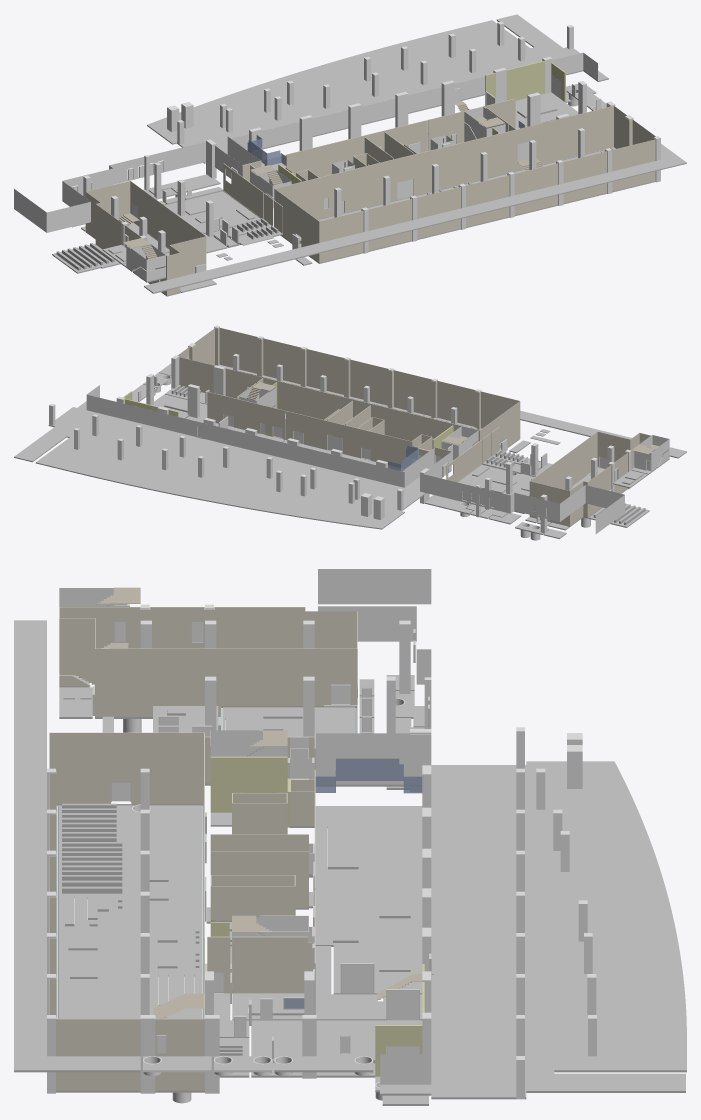
3 views of the same model, one above another, from view 1: azimuth 30°, elevation 25°; view 2: azimuth 150°, elevation 25°; view 3: azimuth 270°, elevation 25° (orthographic). The views are drawn at different scales.
Visible parts, largest first — view 1: A8_B4F_Wall, A8_B4F_Out_Floor, A8_B4F_Floor, A8_B4F_Pillar, A8_B4F_Door, A8_B4F_Green Brick, A8_B4F_Stairs, A8_B4F_Glass; view 2: A8_B4F_Wall, A8_B4F_Out_Floor, A8_B4F_Floor, A8_B4F_Pillar, A8_B4F_Door, A8_B4F_Green Brick, A8_B4F_Stairs, A8_B4F_Cylinder, A8_B4F_Glass; view 3: A8_B4F_Floor, A8_B4F_Wall, A8_B4F_Out_Floor, A8_B4F_Pillar, A8_B4F_Door, A8_B4F_Green Brick, A8_B4F_Stairs, A8_B4F_Glass, A8_B4F_Cylinder.
Part boxes in pixels (<box>): A8_B4F_Wall: <box>14,52,655,295</box>; A8_B4F_Out_Floor: <box>147,14,608,178</box>; A8_B4F_Floor: <box>52,84,686,296</box>; A8_B4F_Pillar: <box>83,21,660,265</box>; A8_B4F_Door: <box>72,75,601,273</box>; A8_B4F_Green Brick: <box>278,60,565,183</box>; A8_B4F_Stairs: <box>118,100,543,270</box>; A8_B4F_Glass: <box>247,135,286,165</box>; A8_B4F_Wall: <box>86,327,669,533</box>; A8_B4F_Out_Floor: <box>14,401,451,529</box>; A8_B4F_Floor: <box>132,363,686,538</box>; A8_B4F_Pillar: <box>49,325,631,533</box>; A8_B4F_Door: <box>138,355,650,521</box>; A8_B4F_Green Brick: <box>123,382,453,450</box>; A8_B4F_Stairs: <box>247,382,668,465</box>; A8_B4F_Cylinder: <box>146,375,590,540</box>; A8_B4F_Glass: <box>387,445,418,471</box>; A8_B4F_Floor: <box>14,620,428,1105</box>; A8_B4F_Wall: <box>49,569,431,1090</box>; A8_B4F_Out_Floor: <box>316,761,686,1099</box>; A8_B4F_Pillar: <box>47,604,596,1099</box>; A8_B4F_Door: <box>92,605,431,1058</box>; A8_B4F_Green Brick: <box>210,756,424,1076</box>; A8_B4F_Stairs: <box>79,587,422,1018</box>; A8_B4F_Glass: <box>315,758,422,793</box>; A8_B4F_Cylinder: <box>123,698,405,1103</box>.
Bounding box in the file's own units: 104 × 9.38 × 60.24.
